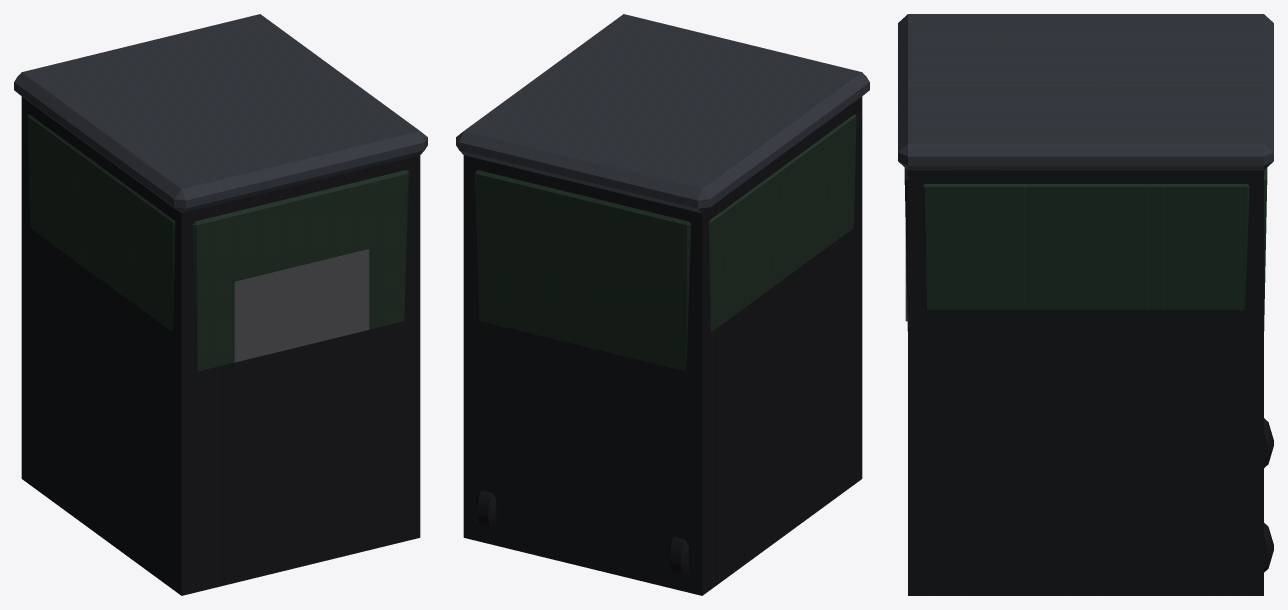
The model's file is kit_recycling_bin.glb.
The picture shows the model from 3 angles, left to right: view 1: azimuth 30°, elevation 25°; view 2: azimuth 150°, elevation 25°; view 3: azimuth 270°, elevation 25°; orthographic projection. The views are drawn at different scales.
Visible parts, largest first — view 1: rb_COL, rb_lid, rb_body, rb_label; view 2: rb_COL, rb_body, rb_lid, rb_wheel1, rb_wheel-1; view 3: rb_COL, rb_lid, rb_body.
Part boxes in pixels (bbox=[...]): rb_COL: bbox=[21, 96, 420, 595]; rb_lid: bbox=[14, 14, 427, 213]; rb_body: bbox=[27, 114, 408, 371]; rb_label: bbox=[233, 249, 369, 362]; rb_COL: bbox=[463, 96, 862, 595]; rb_body: bbox=[475, 114, 856, 371]; rb_lid: bbox=[456, 14, 869, 213]; rb_wheel1: bbox=[475, 490, 496, 532]; rb_wheel-1: bbox=[667, 537, 688, 579]; rb_COL: bbox=[908, 170, 1263, 595]; rb_lid: bbox=[898, 14, 1273, 170]; rb_body: bbox=[904, 167, 1267, 330].
Bounding box in the file's own units: 0.66 × 1.01 × 0.76.
5 materials, 5 textured.
